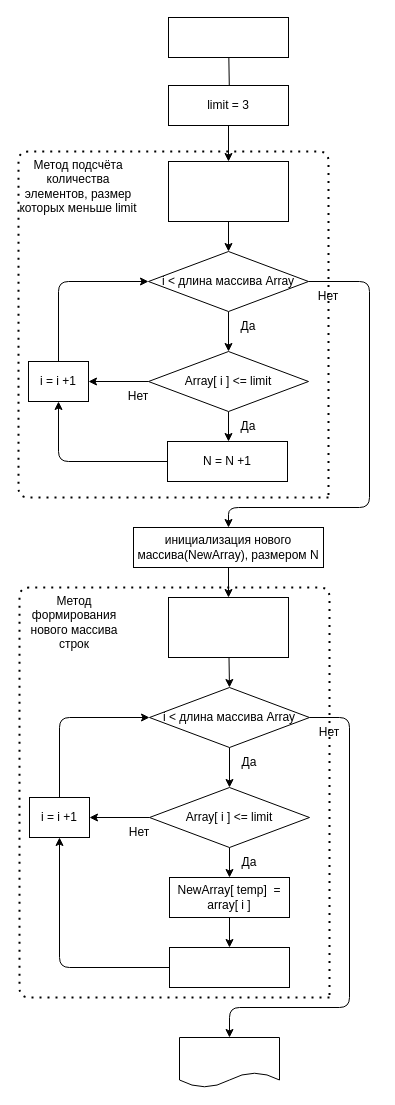
The diagram is 395 pixels wide and 1105 high, and some of its shapes have lost their labels. Each missing label, with the centre of its shape:
NewArray: point 229,1062
temp = temp +1: point 229,967
получение массива строк (Array): point 228,37
счётчики: N= 0 i = 0: point 228,191
счётчики: temp = 0 i = 0: point 228,627
